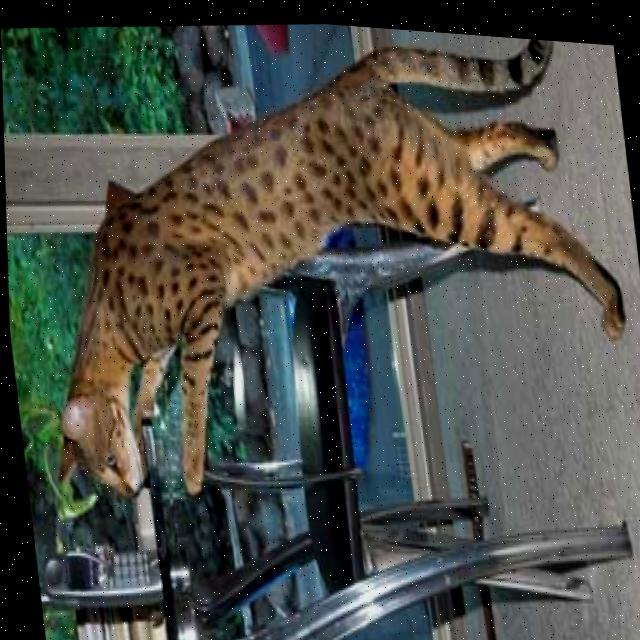Egyptian Mau: (0, 0, 640, 543)
